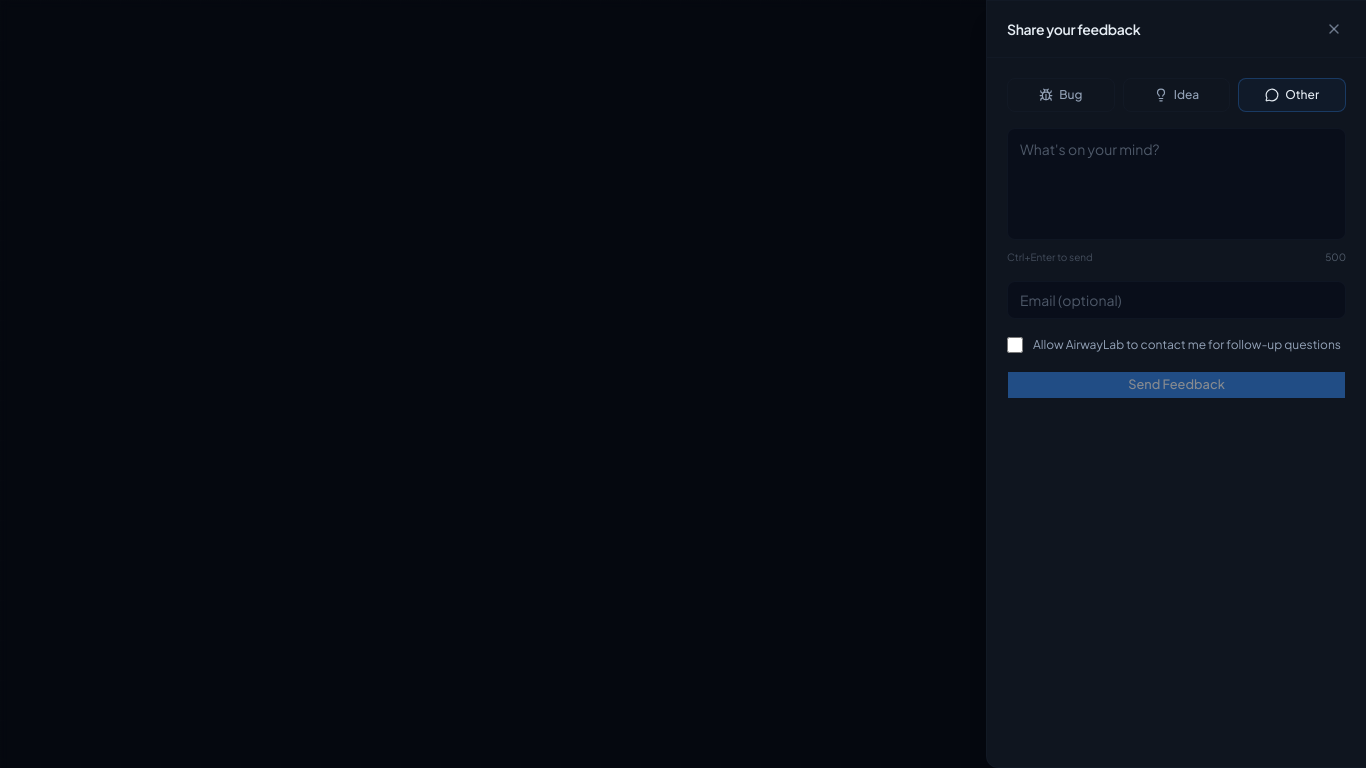
Test case: FeedbackPanel › shows success state after successful submission
Type "Great tool, love it!" into the text box with placeholder "What's on your mind?" at (1176, 184), box 1007,128 -> 1346,240
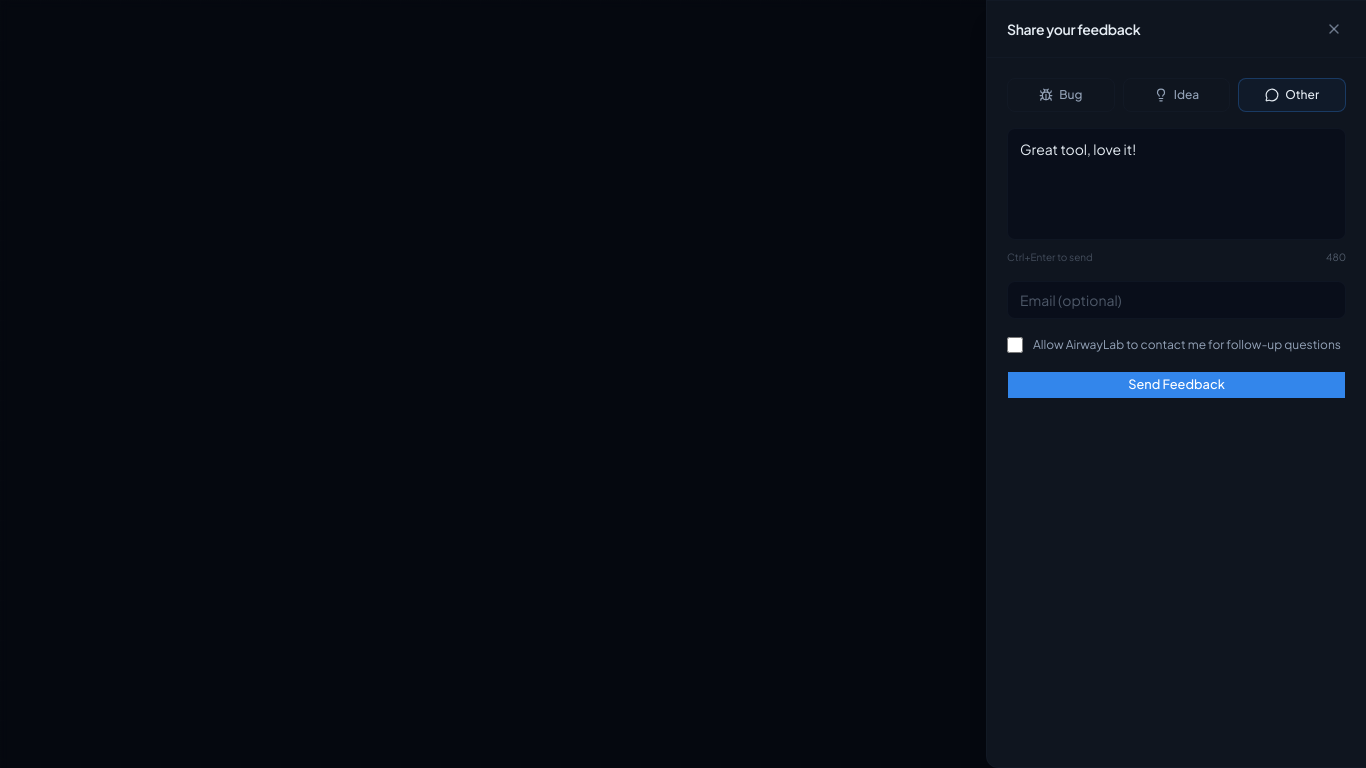
Click the button "Send Feedback" at (1176, 384), box 1007,370 -> 1346,398
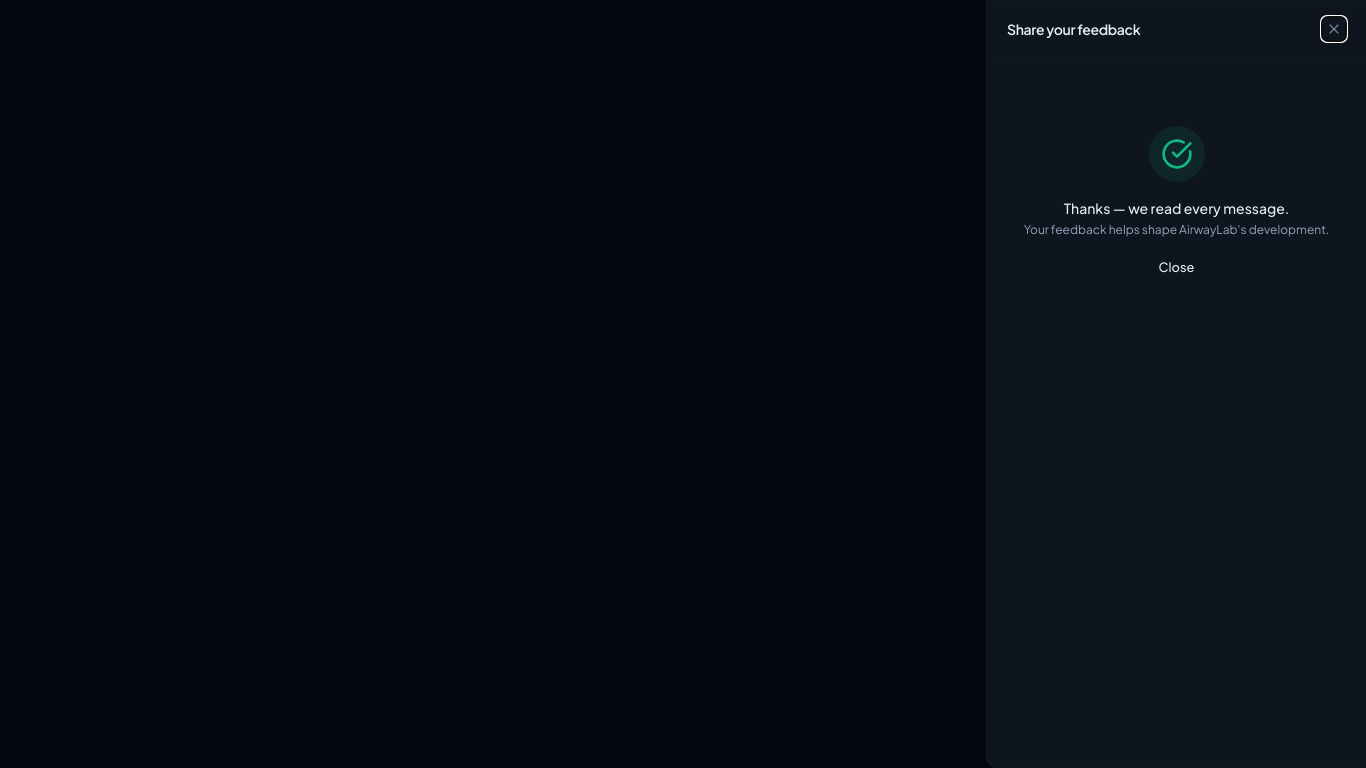
Check: the text "Thanks — we read every message." is shown, box 1064,199 -> 1289,217
